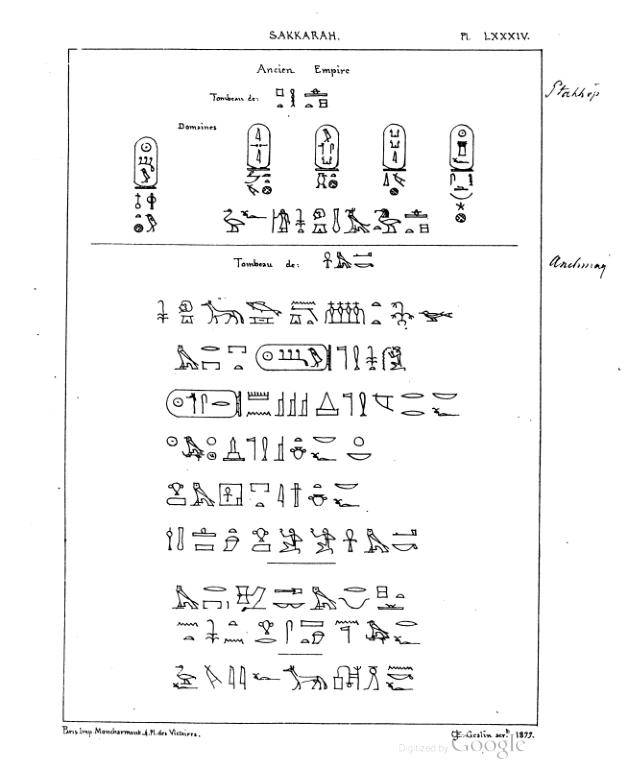circle: (164, 384, 244, 421), (251, 339, 334, 372), (444, 120, 479, 175), (130, 134, 162, 191), (378, 119, 410, 175), (313, 123, 343, 173), (244, 121, 273, 172)
